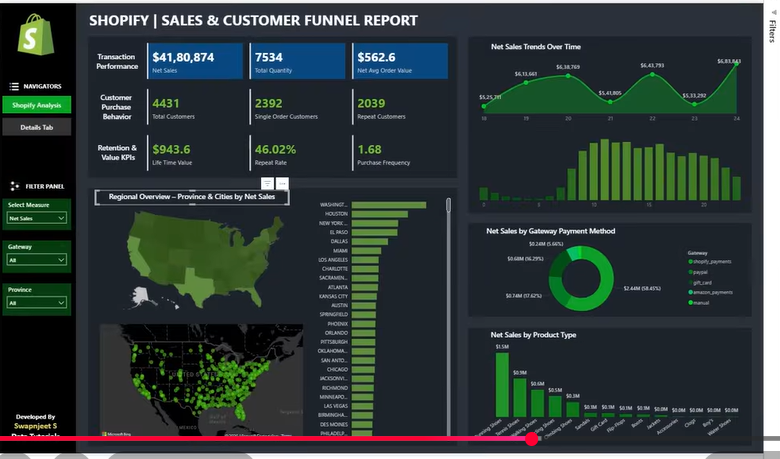

The page's visual inventory and layout, read from the dashboard file:
{"tool":"powerbi","page":{"name":"Page 1","canvas":[1700,1000],"ordinal":0},"visuals":[{"type":"shape","box":[0,0,234,999.3],"z":0},{"type":"textbox","box":[234.6,0,772.5,73.7],"z":1000},{"type":"shape","box":[234.6,73.7,819.4,315],"z":2000},{"type":"cardVisual","fields":{"Data":["shopify_sales.Net Sales","shopify_sales.Total Quantity","shopify_sales.Net Avg Order Value"]},"box":[373.7,75.4,680.3,90.5],"z":3000},{"type":"cardVisual","fields":{"Data":["shopify_sales.Transaction Perf"]},"box":[234.6,75.4,155.8,97.2],"z":4000},{"type":"cardVisual","fields":{"Data":["shopify_sales.Single Order Customers","shopify_sales.Repeat Customer","shopify_sales.Total Customers"]},"box":[372.7,173.6,680,90],"z":5000},{"type":"cardVisual","fields":{"Data":["shopify_sales.Customer Purchase Behavior"]},"box":[234.6,165.9,155.8,97.2],"z":6000},{"type":"cardVisual","fields":{"Data":["shopify_sales.Life Time Value","shopify_sales.Repeat Rate","shopify_sales.Purchase Frequency"]},"box":[372.3,271.3,679.1,90.4],"z":7000},{"type":"cardVisual","fields":{"Data":["shopify_sales.Retention &Value KPIs"]},"box":[234.6,256.4,155.8,97.2],"z":8000},{"type":"shape","box":[233.9,430.2,817.1,568.8],"z":9000},{"type":"shapeMap","fields":{"Value":["shopify_sales.Net Sales"],"Category":["shopify_sales.Billing Address Province"]},"box":[234.6,484.3,445.7,227.9],"z":10000},{"type":"slicer","fields":{"Values":["Select Measure.Select Measure"]},"box":[8.2,442.6,217.2,82],"z":11000},{"type":"map","fields":{"Category":["shopify_sales.Location"]},"box":[247.6,712.7,431.4,285.1],"z":12000},{"type":"clusteredBarChart","fields":{"Y":["shopify_sales.Net Sales"],"Category":["shopify_sales.CITY"]},"box":[680.7,431.7,337.6,564.5],"z":13000},{"type":"shape","box":[1069.7,77.9,631.2,389.3],"z":14000},{"type":"areaChart","fields":{"Y":["shopify_sales.Net Sales"],"Category":["shopify_sales.Invoice Date.Variation.Date Hierarchy.Day"]},"box":[1051.9,139.4,588.1,157.6],"z":15000},{"type":"columnChart","fields":{"Y":["shopify_sales.Net Sales"],"Category":["shopify_sales.Hour"]},"box":[1048.9,300.1,651.8,166.7],"z":16000},{"type":"cardVisual","fields":{"Data":["shopify_sales.Map Title"]},"box":[234.6,430.6,439,73.7],"z":17000},{"type":"cardVisual","fields":{"Data":["shopify_sales.Trend Title"]},"box":[1051.9,72.8,366.8,78.8],"z":18000},{"type":"shape","box":[1057.4,500,630,205],"z":19000},{"type":"donutChart","fields":{"Y":["shopify_sales.Net Sales"],"Category":["shopify_sales.Gateway"]},"box":[1068.8,506,632.4,208.7],"z":20000},{"type":"shape","box":[1068.8,714.7,626.1,278.3],"z":21000},{"type":"columnChart","fields":{"Y":["shopify_sales.Net Sales"],"Category":["shopify_sales.Product Type"]},"box":[1068.8,714.7,626.1,284.6],"z":22000},{"type":"cardVisual","fields":{"Data":["shopify_sales.Product Title"]},"box":[1069,703.8,439,73.7],"z":23000},{"type":"cardVisual","fields":{"Data":["shopify_sales.Gateway Title"]},"box":[1052.3,462.5,439,73.7],"z":24000},{"type":"image","box":[25.1,15.1,201.1,159.2],"z":25000},{"type":"slicer","fields":{"Values":["shopify_sales.Gateway"]},"box":[12.3,561.5,217.2,73.8],"z":26000},{"type":"slicer","fields":{"Values":["shopify_sales.Gateway","shopify_sales.Billing Address Province"]},"box":[12.3,668,217.2,73.8],"z":27000}]}

Visuals, with their boxes on the page's 1700x1000 design canvas (x1, y1, x2, y2). These are canvas units, not pixel positions in the 780x459 screenshot, which may show the page scaled, cropped or inside an application window:
shape: x1=0 y1=0 x2=234 y2=999
textbox: x1=235 y1=0 x2=1007 y2=74
shape: x1=235 y1=74 x2=1054 y2=389
cardVisual - shopify_sales.Net Sales x shopify_sales.Total Quantity: x1=374 y1=75 x2=1054 y2=166
cardVisual - shopify_sales.Transaction Perf: x1=235 y1=75 x2=390 y2=173
cardVisual - shopify_sales.Single Order Customers x shopify_sales.Repeat Customer: x1=373 y1=174 x2=1053 y2=264
cardVisual - shopify_sales.Customer Purchase Behavior: x1=235 y1=166 x2=390 y2=263
cardVisual - shopify_sales.Life Time Value x shopify_sales.Repeat Rate: x1=372 y1=271 x2=1051 y2=362
cardVisual - shopify_sales.Retention &Value KPIs: x1=235 y1=256 x2=390 y2=354
shape: x1=234 y1=430 x2=1051 y2=999
shapeMap - shopify_sales.Net Sales x shopify_sales.Billing Address Province: x1=235 y1=484 x2=680 y2=712
slicer - Select Measure.Select Measure: x1=8 y1=443 x2=225 y2=525
map - shopify_sales.Location: x1=248 y1=713 x2=679 y2=998
clusteredBarChart - shopify_sales.Net Sales x shopify_sales.CITY: x1=681 y1=432 x2=1018 y2=996
shape: x1=1070 y1=78 x2=1701 y2=467
areaChart - shopify_sales.Net Sales x shopify_sales.Invoice Date.Variation.Date Hierarchy.Day: x1=1052 y1=139 x2=1640 y2=297
columnChart - shopify_sales.Net Sales x shopify_sales.Hour: x1=1049 y1=300 x2=1701 y2=467
cardVisual - shopify_sales.Map Title: x1=235 y1=431 x2=674 y2=504
cardVisual - shopify_sales.Trend Title: x1=1052 y1=73 x2=1419 y2=152
shape: x1=1057 y1=500 x2=1687 y2=705
donutChart - shopify_sales.Net Sales x shopify_sales.Gateway: x1=1069 y1=506 x2=1701 y2=715
shape: x1=1069 y1=715 x2=1695 y2=993
columnChart - shopify_sales.Net Sales x shopify_sales.Product Type: x1=1069 y1=715 x2=1695 y2=999
cardVisual - shopify_sales.Product Title: x1=1069 y1=704 x2=1508 y2=778
cardVisual - shopify_sales.Gateway Title: x1=1052 y1=462 x2=1491 y2=536
image: x1=25 y1=15 x2=226 y2=174
slicer - shopify_sales.Gateway: x1=12 y1=562 x2=230 y2=635
slicer - shopify_sales.Gateway x shopify_sales.Billing Address Province: x1=12 y1=668 x2=230 y2=742
